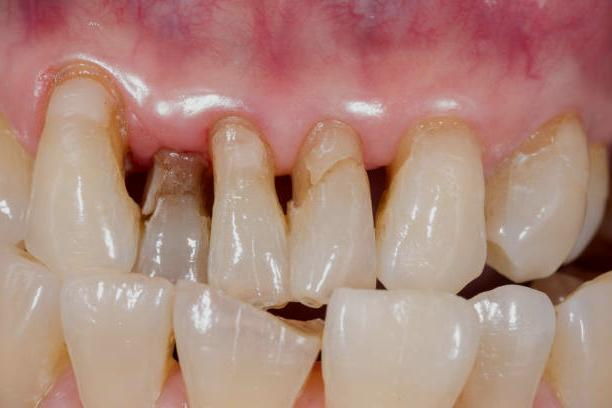Calculus: (28, 56, 125, 158), (283, 109, 368, 192)
Discoloration: (135, 149, 213, 292)
